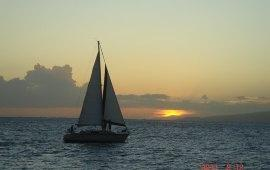fanchuan: (61, 41, 131, 145)
